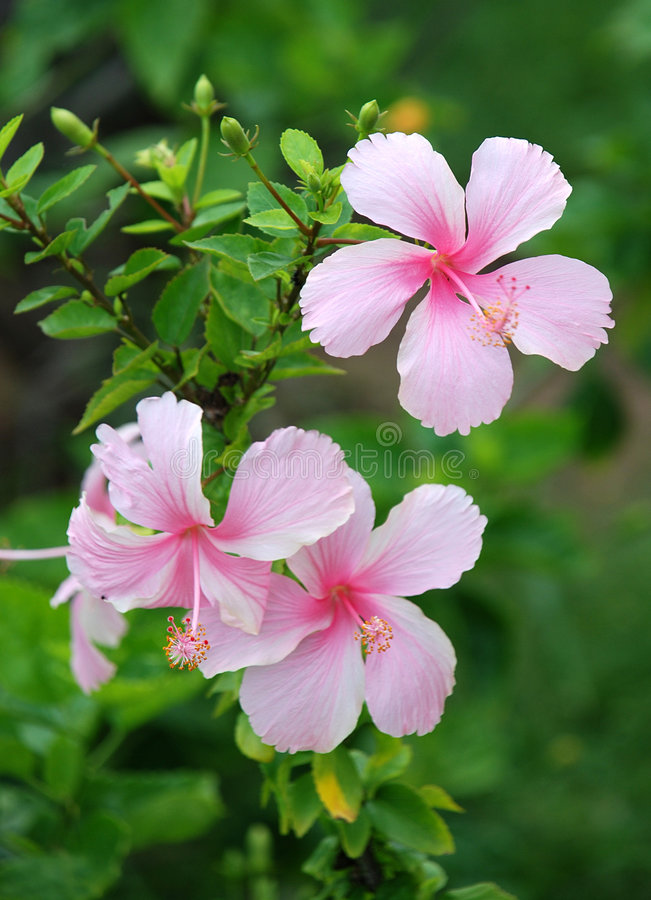Hibiscus: (36, 390, 355, 721), (302, 129, 616, 451), (251, 458, 492, 792), (29, 85, 129, 163), (219, 92, 282, 185), (170, 53, 214, 131), (336, 85, 390, 148)
